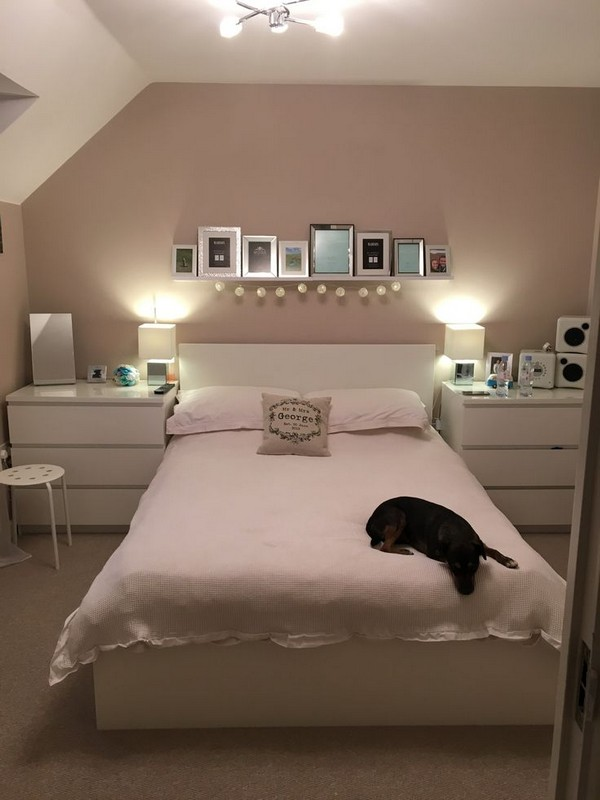bed: (129, 331, 506, 734)
lamp: (438, 310, 494, 393), (132, 312, 181, 393)
stool: (12, 378, 172, 534), (438, 375, 582, 525), (7, 460, 79, 579)
